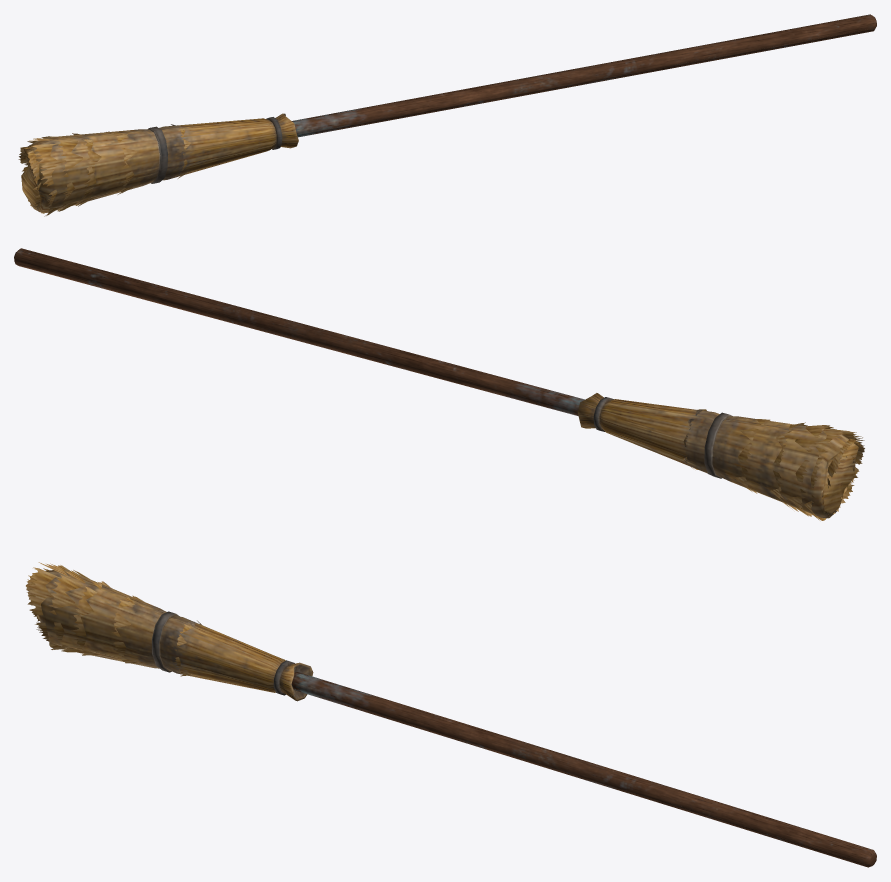
The model's file is atom-rpg-low-poly-broom-2661b1.glb.
The picture shows the model from 3 angles, top to bottom: view 1: azimuth 30°, elevation 25°; view 2: azimuth 150°, elevation 25°; view 3: azimuth 330°, elevation 25°; orthographic projection. The views are drawn at different scales.
Parts seen in each view (by area): view 1: PropMesh; view 2: PropMesh; view 3: PropMesh.
Boxes of the visible parts, x1,y1,x2,y2 form: PropMesh: (18, 14, 876, 216); PropMesh: (14, 248, 864, 520); PropMesh: (26, 562, 876, 867).
Bounding box in the file's own units: 1.4 × 0.1446 × 0.1629.
Materials: 1 (1 with a texture image).
